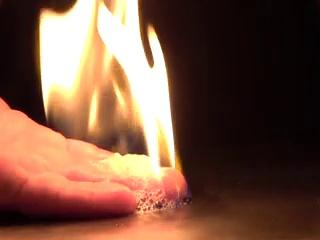Fire: (36, 1, 178, 194)
